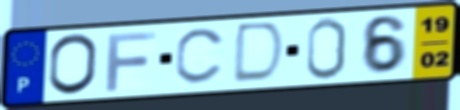0: (305, 15, 349, 82)
6: (358, 13, 412, 77)
C: (172, 26, 229, 87)
D: (229, 20, 289, 86)
F: (103, 29, 159, 93)
O: (45, 32, 100, 98)
